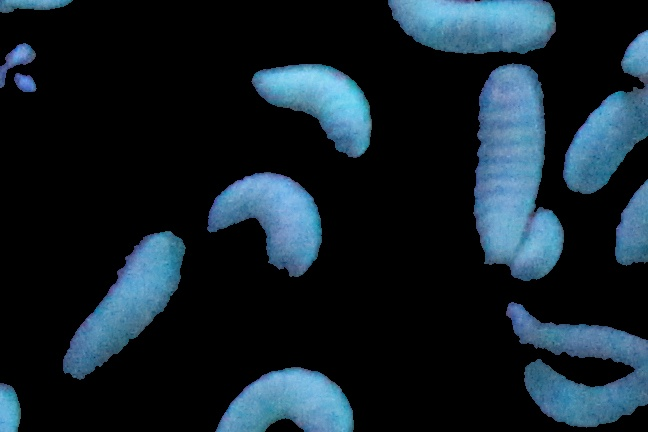larvae: (63, 228, 178, 375), (247, 59, 373, 161), (475, 70, 546, 242), (490, 293, 648, 362), (201, 370, 362, 432), (217, 175, 315, 275), (565, 79, 648, 193), (389, 1, 555, 55), (522, 358, 648, 428), (492, 210, 568, 281)
